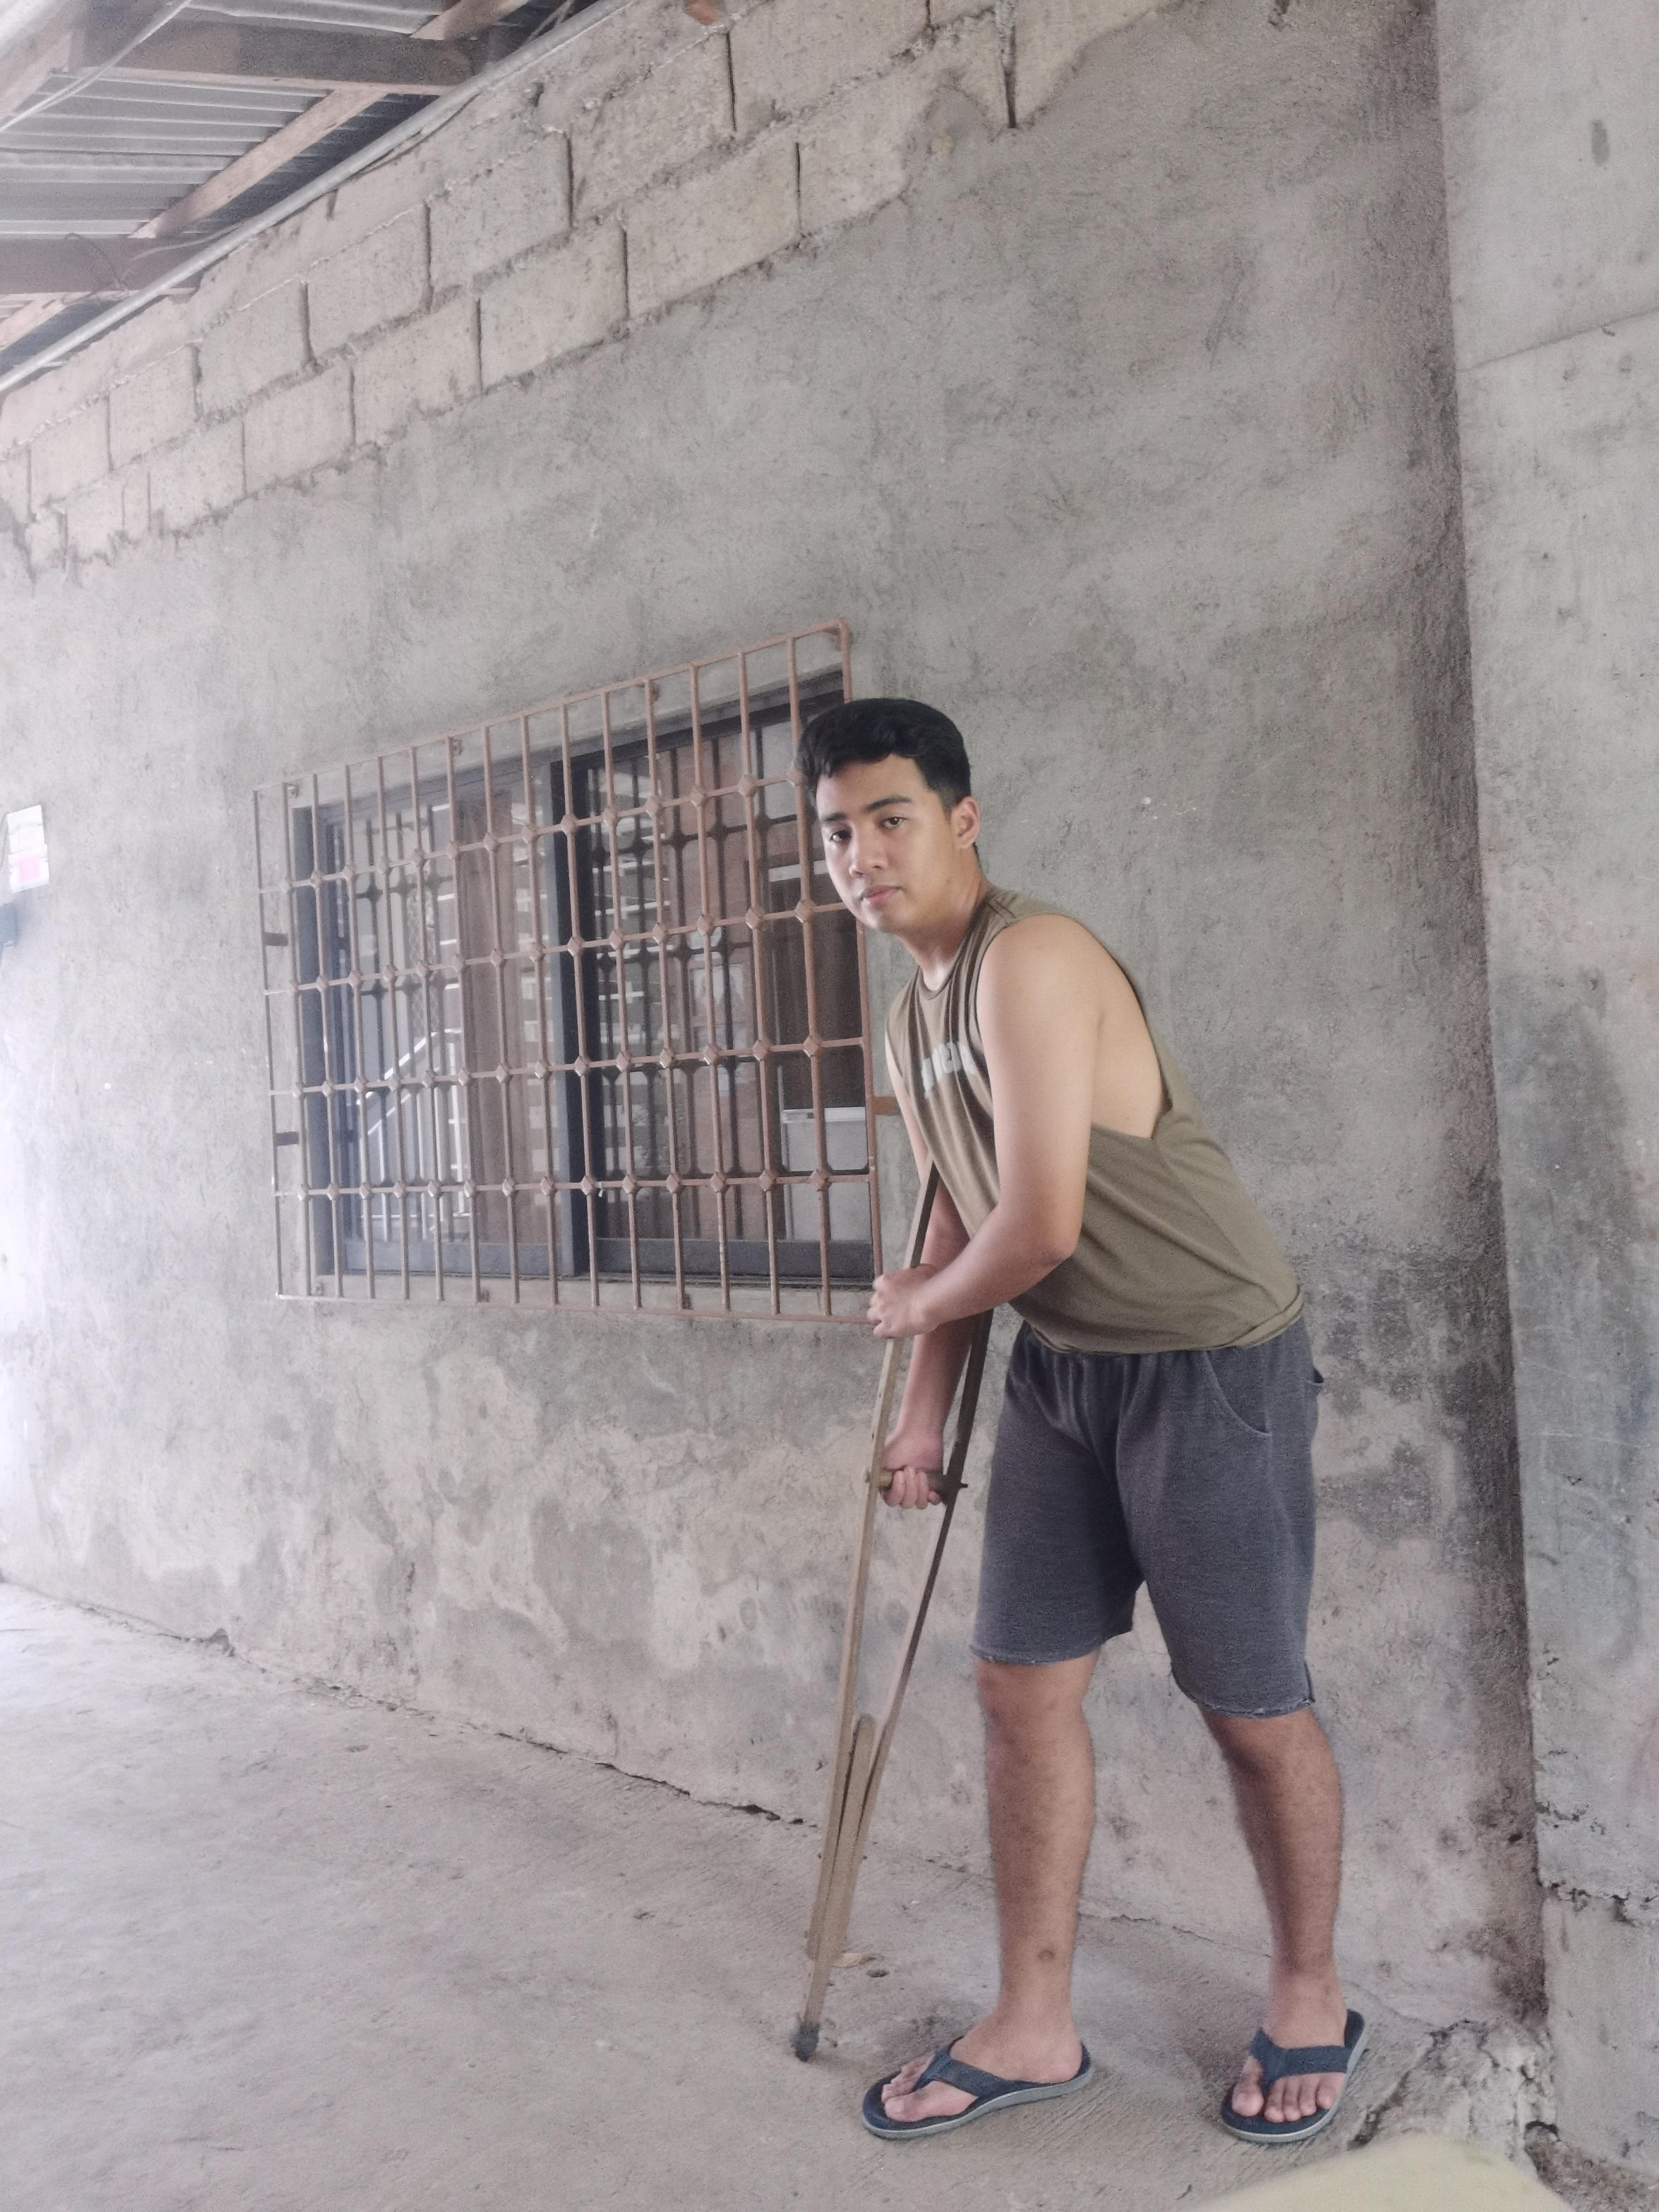crutches: (793, 698, 1373, 2148)
